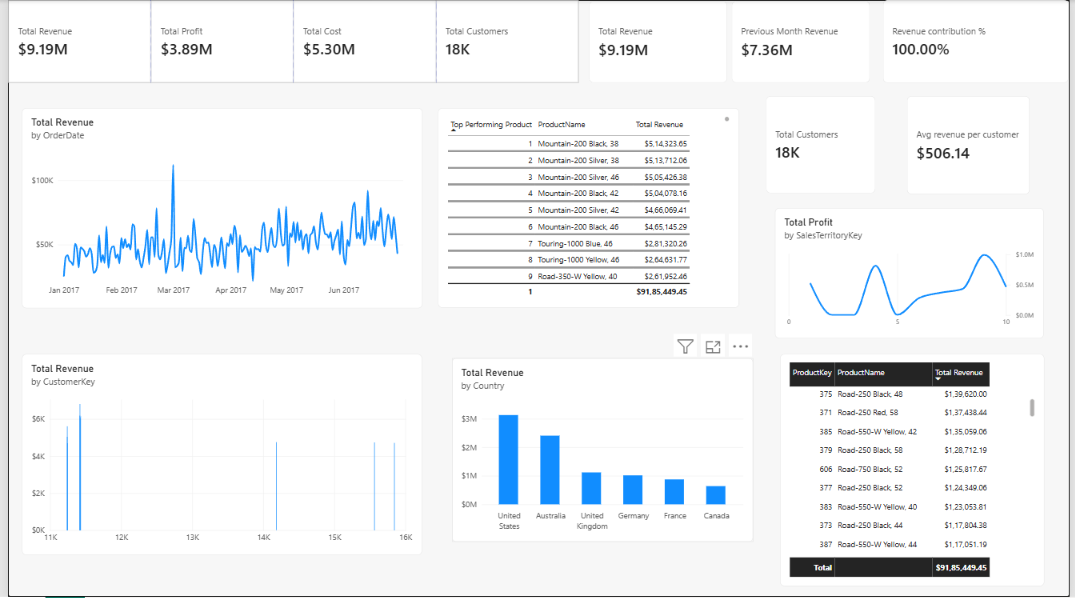

The dashboard page shown, as its layout file describes it:
{"tool":"powerbi","page":{"name":"Page 1","canvas":[1920,1080],"ordinal":0},"visuals":[{"type":"lineChart","fields":{"Category":["AdventureWorks_Sales_2017.OrderDate"],"Y":["AdventureWorks_Sales_2017.Total Revenue"]},"box":[25.3,195.4,724.5,362.3],"z":0},{"type":"cardVisual","fields":{"Data":["AdventureWorks_Sales_2017.Total Revenue","AdventureWorks_Sales_2017.Total Profit","AdventureWorks_Sales_2017.Total Cost","AdventureWorks_Sales_2017.Total Customers"]},"box":[0,0,1035.3,150.3],"z":1000},{"type":"cardVisual","fields":{"Data":["AdventureWorks_Sales_2017.Total Revenue","AdventureWorks_Sales_2017.Previous Month Revenue"]},"box":[1051.1,2.1,508.4,148.2],"z":2000},{"type":"tableEx","fields":{"Values":["AdventureWorks_Sales_2017.Top Performing Product","AdventureWorks_Products.ProductName","AdventureWorks_Sales_2017.Total Revenue"]},"box":[778.2,195.4,544.7,361.7],"z":3000},{"type":"cardVisual","fields":{"Data":["AdventureWorks_Sales_2017.Revenue contribution %"]},"box":[1584,0,336,150],"z":4000},{"type":"cardVisual","fields":{"Data":["AdventureWorks_Sales_2017.Total Customers"]},"box":[1371.7,173.7,198,176],"z":5000},{"type":"cardVisual","fields":{"Data":["AdventureWorks_Sales_2017.Avg revenue per customer"]},"box":[1626.9,173.7,222,178],"z":6000},{"type":"clusteredColumnChart","fields":{"Category":["AdventureWorks_Sales_2017.CustomerKey"],"Y":["AdventureWorks_Sales_2017.Total Revenue"]},"box":[25.3,640.6,724,364],"z":7000},{"type":"columnChart","fields":{"Category":["AdventureWorks_Territories.Country"],"Y":["AdventureWorks_Sales_2017.Total Revenue"]},"box":[803.5,647.9,544.7,333],"z":8000},{"type":"lineClusteredColumnComboChart","fields":{"Category":["AdventureWorks_Territories.SalesTerritoryKey"],"Y2":["AdventureWorks_Sales_2017.Total Profit"]},"box":[1388,376.4,486,236],"z":9000},{"type":"tableEx","fields":{"Values":["AdventureWorks_Products.ProductKey","AdventureWorks_Products.ProductName","AdventureWorks_Sales_2017.Total Revenue"]},"box":[1397.1,640.6,478,420],"z":9001}]}

Visuals, with their boxes in screenshot pixels (x1, y1, x2, y2), scaled from the page's 1920x1080 canvas onto the 1075x598 screenshot:
lineChart - AdventureWorks_Sales_2017.OrderDate x AdventureWorks_Sales_2017.Total Revenue: (left=14, top=108, right=420, bottom=309)
cardVisual - AdventureWorks_Sales_2017.Total Revenue x AdventureWorks_Sales_2017.Total Profit: (left=0, top=0, right=580, bottom=83)
cardVisual - AdventureWorks_Sales_2017.Total Revenue x AdventureWorks_Sales_2017.Previous Month Revenue: (left=589, top=1, right=873, bottom=83)
tableEx - AdventureWorks_Sales_2017.Top Performing Product x AdventureWorks_Products.ProductName: (left=436, top=108, right=741, bottom=308)
cardVisual - AdventureWorks_Sales_2017.Revenue contribution %: (left=887, top=0, right=1074, bottom=83)
cardVisual - AdventureWorks_Sales_2017.Total Customers: (left=768, top=96, right=879, bottom=194)
cardVisual - AdventureWorks_Sales_2017.Avg revenue per customer: (left=911, top=96, right=1035, bottom=195)
clusteredColumnChart - AdventureWorks_Sales_2017.CustomerKey x AdventureWorks_Sales_2017.Total Revenue: (left=14, top=355, right=420, bottom=556)
columnChart - AdventureWorks_Territories.Country x AdventureWorks_Sales_2017.Total Revenue: (left=450, top=359, right=755, bottom=543)
lineClusteredColumnComboChart - AdventureWorks_Territories.SalesTerritoryKey x AdventureWorks_Sales_2017.Total Profit: (left=777, top=208, right=1049, bottom=339)
tableEx - AdventureWorks_Products.ProductKey x AdventureWorks_Products.ProductName: (left=782, top=355, right=1050, bottom=587)
